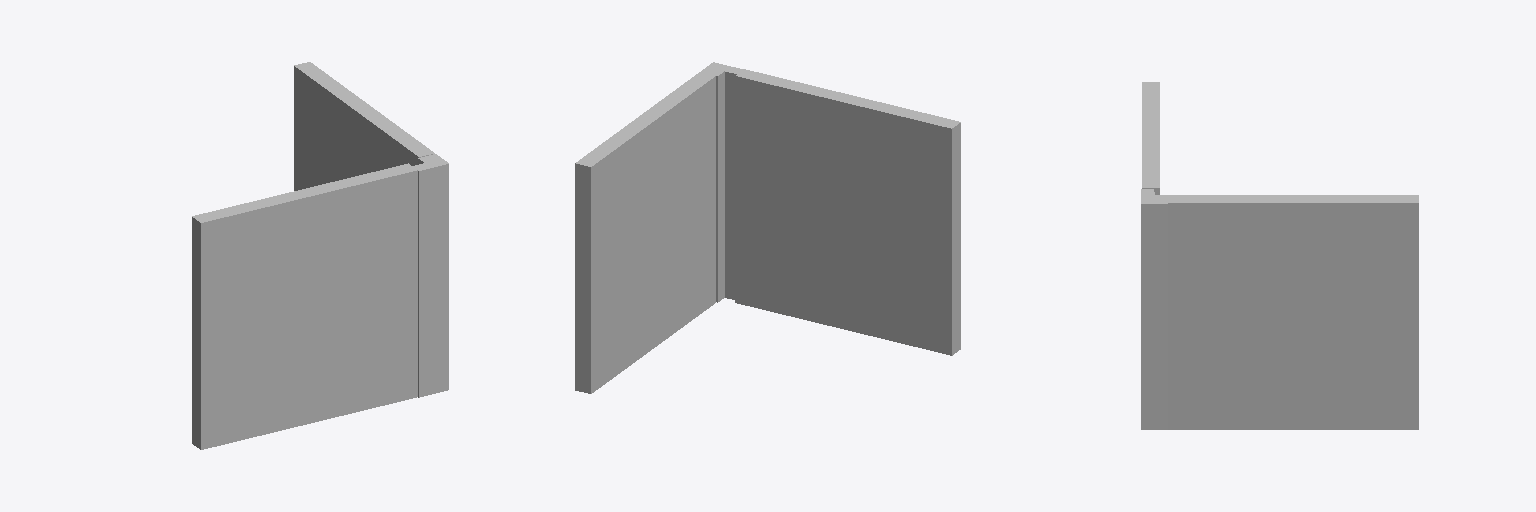
Rendered from Arch_WallCorner.obj.
3 views of the same model, side by side, from view 1: azimuth 30°, elevation 25°; view 2: azimuth 150°, elevation 25°; view 3: azimuth 270°, elevation 25° (orthographic).
Parts seen in each view (by area): view 1: wall.003; view 2: wall.003; view 3: wall.003.
Boxes of the visible parts, x1,y1,x2,y2 form: wall.003: [192, 62, 448, 449]; wall.003: [575, 62, 960, 393]; wall.003: [1141, 82, 1418, 429].
Size of the model in its own units: 2.75 by 2.4 by 2.66.